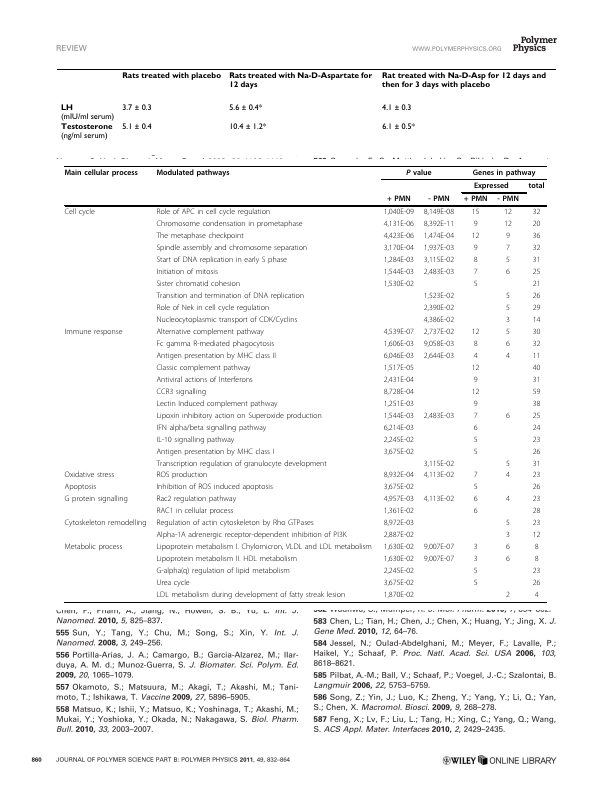borderless: (63, 164, 547, 602), (55, 67, 557, 149)
cell: (381, 72, 546, 90), (228, 72, 373, 90), (155, 542, 373, 552), (155, 530, 348, 540), (155, 590, 346, 600), (155, 518, 315, 528), (155, 459, 328, 468), (155, 243, 308, 253), (155, 411, 323, 420), (155, 291, 305, 301), (155, 315, 298, 325), (155, 554, 298, 564), (155, 566, 291, 576), (155, 220, 304, 229), (155, 255, 288, 265), (155, 351, 277, 361), (155, 339, 275, 349), (155, 303, 270, 313), (155, 399, 278, 408), (155, 327, 265, 337), (155, 447, 275, 456), (155, 483, 274, 492), (59, 103, 115, 122), (155, 208, 271, 217), (155, 423, 267, 432), (59, 123, 113, 141), (155, 363, 251, 373), (121, 72, 222, 81), (155, 231, 245, 241), (155, 375, 254, 384), (155, 279, 241, 289), (63, 518, 148, 528), (155, 494, 237, 504), (155, 506, 234, 516), (155, 435, 235, 444), (64, 168, 139, 177), (155, 168, 230, 177), (63, 494, 129, 504), (155, 267, 219, 277), (63, 327, 123, 337), (63, 542, 123, 552), (472, 168, 536, 177), (155, 471, 208, 480), (155, 387, 207, 396), (63, 471, 115, 480), (228, 122, 267, 132), (473, 181, 510, 191), (155, 578, 191, 588), (228, 103, 263, 113), (381, 122, 415, 132), (383, 231, 415, 241), (423, 231, 455, 241), (383, 243, 415, 253), (423, 243, 455, 253), (383, 255, 415, 265), (423, 255, 455, 265), (383, 267, 415, 277), (423, 267, 455, 277), (383, 279, 415, 289), (423, 291, 455, 301), (423, 303, 455, 313), (423, 315, 455, 325), (383, 327, 415, 337), (423, 327, 455, 337), (383, 339, 415, 349), (423, 339, 455, 349), (383, 351, 415, 361), (423, 351, 455, 361), (383, 363, 415, 373), (383, 494, 415, 504), (423, 494, 455, 504), (383, 506, 415, 516), (383, 518, 415, 528), (383, 530, 415, 540), (383, 542, 415, 552), (423, 542, 455, 552), (383, 554, 415, 564), (423, 554, 455, 564), (383, 566, 415, 576), (383, 578, 415, 588), (383, 590, 415, 600), (121, 103, 152, 113), (381, 103, 412, 113), (121, 122, 152, 132), (63, 483, 97, 492), (63, 208, 96, 217), (383, 208, 415, 217), (423, 208, 455, 217), (383, 220, 415, 229), (423, 220, 455, 229), (383, 375, 415, 384), (383, 387, 415, 396), (383, 399, 415, 408), (383, 411, 415, 420), (423, 411, 455, 420), (383, 423, 415, 432), (383, 435, 415, 444), (383, 447, 415, 456), (423, 459, 455, 468), (383, 471, 415, 480), (423, 471, 455, 480), (383, 483, 415, 492), (386, 194, 412, 204), (463, 194, 488, 204), (405, 168, 432, 177), (496, 194, 520, 204), (427, 194, 450, 204), (528, 181, 545, 191), (503, 208, 513, 217), (503, 220, 513, 229), (471, 231, 480, 241), (532, 231, 541, 241), (532, 243, 541, 253), (532, 255, 541, 265), (532, 267, 541, 277), (532, 279, 541, 289), (532, 291, 541, 301), (532, 303, 541, 313), (532, 315, 541, 325), (471, 327, 480, 337), (532, 327, 541, 337), (532, 339, 541, 349), (532, 351, 541, 361), (471, 363, 480, 373), (532, 363, 541, 373), (532, 494, 541, 504), (532, 506, 541, 516), (532, 518, 541, 528), (532, 530, 541, 540), (532, 566, 541, 576), (532, 578, 541, 588), (471, 208, 480, 217), (532, 208, 541, 217), (532, 220, 541, 229), (532, 375, 541, 384), (471, 387, 480, 396), (532, 387, 541, 396), (532, 399, 541, 408), (532, 411, 541, 420), (532, 423, 541, 432), (532, 435, 541, 444), (532, 447, 541, 456), (532, 459, 541, 468), (532, 471, 541, 480), (532, 483, 541, 492), (505, 231, 511, 241), (505, 243, 511, 253), (505, 255, 511, 265), (505, 267, 511, 277), (505, 291, 511, 301), (505, 303, 511, 313), (505, 315, 511, 325), (505, 327, 511, 337), (505, 339, 511, 349), (505, 351, 511, 361), (505, 494, 511, 504), (505, 518, 511, 528), (505, 530, 511, 540), (505, 542, 511, 552), (505, 554, 511, 564), (505, 590, 511, 600), (505, 411, 511, 420), (505, 459, 511, 468), (505, 471, 511, 480), (473, 243, 478, 253), (473, 255, 478, 265), (473, 267, 478, 277), (473, 279, 478, 289), (473, 339, 478, 349), (473, 351, 478, 361), (473, 494, 478, 504), (473, 506, 478, 516), (473, 542, 478, 552), (534, 542, 539, 552), (473, 554, 478, 564), (534, 554, 539, 564), (473, 566, 478, 576), (473, 578, 478, 588), (534, 590, 539, 600), (473, 220, 478, 229), (473, 375, 478, 384), (473, 399, 478, 408), (473, 411, 478, 420), (473, 423, 478, 432), (473, 435, 478, 444), (473, 447, 478, 456), (473, 471, 478, 480), (473, 483, 478, 492)
